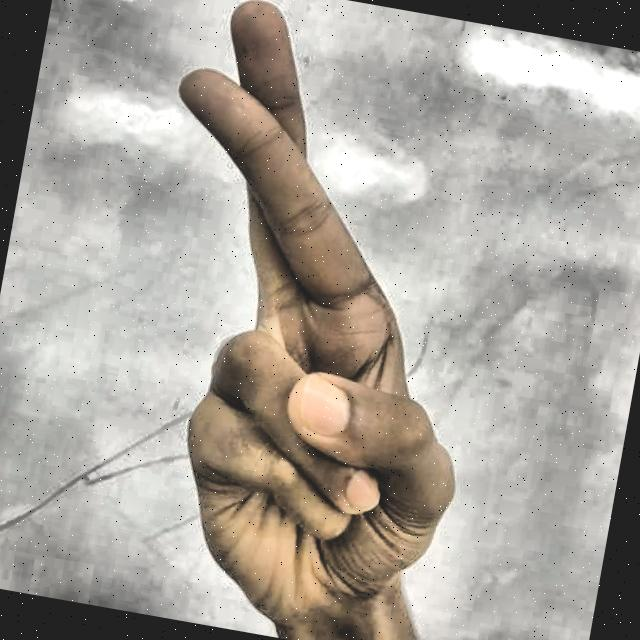Ra: (70, 0, 548, 640)
